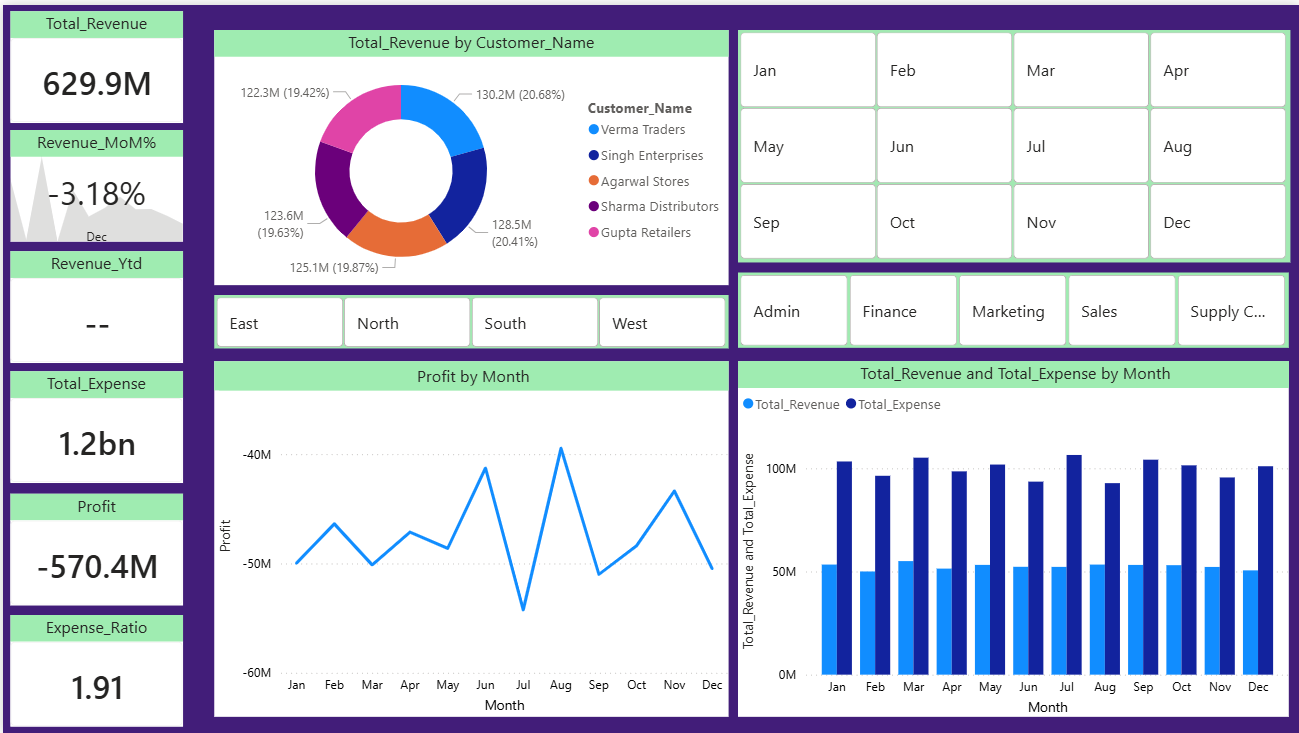

What the dashboard file says about the page in this screenshot:
{"tool":"powerbi","page":{"name":"Financial_Performance","canvas":[1280,720],"ordinal":0},"visuals":[{"type":"cardVisual","title":"Total_Revenue","fields":{"Data":["Measure.Total_Revenue"]},"box":[7.5,6.2,170,110],"z":0},{"type":"lineChart","fields":{"Category":["Date_Master.Month"],"Y":["Measure.Profit"]},"box":[208.8,362.5,507.5,341.2],"z":1000},{"type":"kpi","title":"Revenue_MoM% ","fields":{"Indicator":["Measure.Revenue_MoM%"],"TrendLine":["Date_Master.Month"]},"box":[7.5,124,170,110],"z":2000},{"type":"cardVisual","title":"Total_Expense","fields":{"Data":["Measure.Total_Expense"]},"box":[7.5,362,170,110],"z":3000},{"type":"donutChart","fields":{"Category":["Customer_Master.Customer_Name"],"Y":["Measure.Total_Revenue"]},"box":[208.8,23.8,507.5,240],"z":4000},{"type":"advancedSlicerVisual","fields":{"Values":["Sales.Region"]},"box":[208.8,286.2,507.5,52.5],"z":5000},{"type":"cardVisual","title":"Profit","fields":{"Data":["Measure.Profit"]},"box":[7.5,483,170,110],"z":6000},{"type":"cardVisual","title":"Revenue_Ytd","fields":{"Data":["Measure.Revenue_Ytd"]},"box":[7.5,243,170,110],"z":7000},{"type":"cardVisual","title":"Expense_Ratio","fields":{"Data":["Measure.Expense_Ratio"]},"box":[7.5,602.5,170,110],"z":8000},{"type":"clusteredColumnChart","fields":{"Category":["Date_Master.Month"],"Y":["Measure.Total_Revenue","Measure.Total_Expense"]},"box":[738.8,362.5,531.2,341.2],"z":9000},{"type":"advancedSlicerVisual","fields":{"Values":["Date_Master.Month"]},"box":[740,23.8,531.2,218.8],"z":10000},{"type":"advancedSlicerVisual","fields":{"Values":["Department_Master.Department"]},"box":[738.8,263.8,531.2,75],"z":11000}]}

Visuals, with their boxes in screenshot pixels (x1, y1, x2, y2), scaled from the page's 1280x720 canvas onto the 1299x733 screenshot:
"Total_Revenue" cardVisual: l=8, t=6, r=180, b=118
lineChart - Date_Master.Month x Measure.Profit: l=212, t=369, r=727, b=716
"Revenue_MoM% " kpi: l=8, t=126, r=180, b=238
"Total_Expense" cardVisual: l=8, t=369, r=180, b=481
donutChart - Customer_Master.Customer_Name x Measure.Total_Revenue: l=212, t=24, r=727, b=269
advancedSlicerVisual - Sales.Region: l=212, t=291, r=727, b=345
"Profit" cardVisual: l=8, t=492, r=180, b=604
"Revenue_Ytd" cardVisual: l=8, t=247, r=180, b=359
"Expense_Ratio" cardVisual: l=8, t=613, r=180, b=725
clusteredColumnChart - Date_Master.Month x Measure.Total_Revenue: l=750, t=369, r=1289, b=716
advancedSlicerVisual - Date_Master.Month: l=751, t=24, r=1290, b=247
advancedSlicerVisual - Department_Master.Department: l=750, t=269, r=1289, b=345
